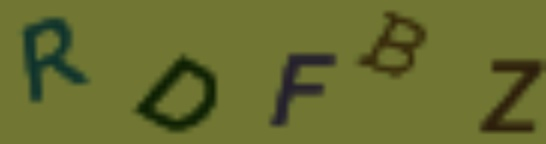B: (353, 10, 431, 82)
D: (133, 52, 226, 139)
F: (265, 47, 340, 131)
R: (19, 12, 91, 104)
Z: (475, 53, 546, 137)
